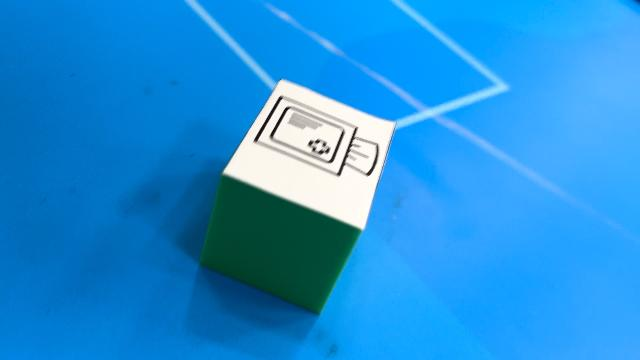napkin: (202, 82, 398, 316)
